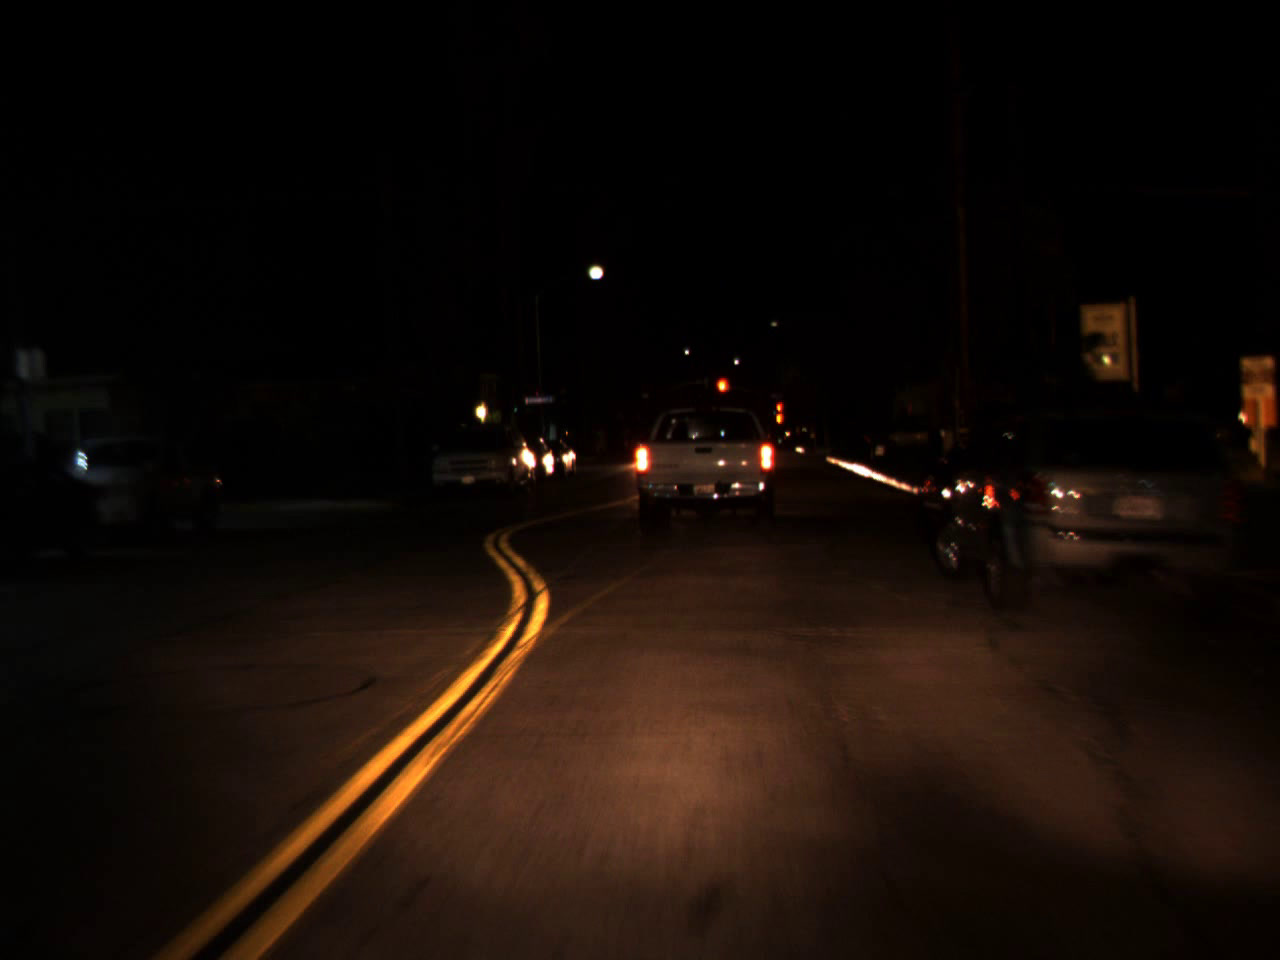stop: (715, 377, 728, 409), (774, 402, 783, 423)
